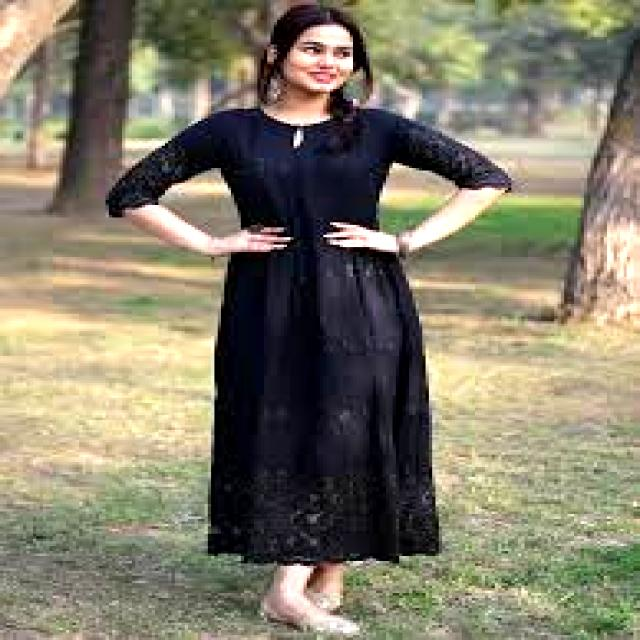dress: (106, 107, 511, 563)
foot-wear: (261, 603, 359, 637), (307, 589, 343, 612)
